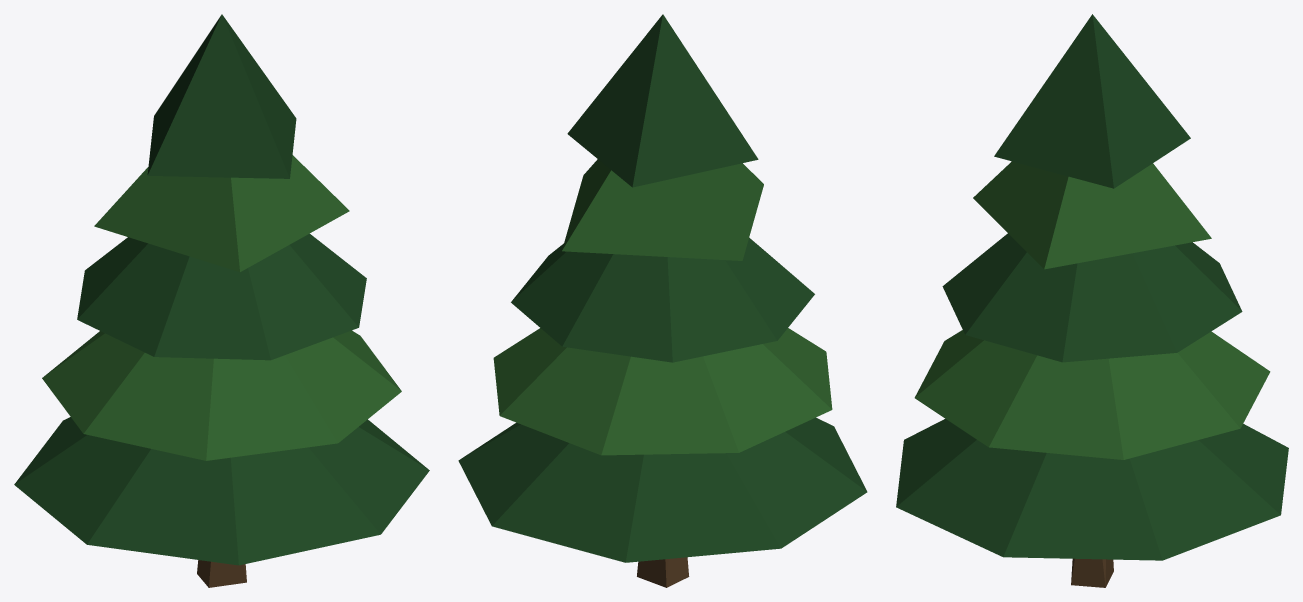
File: tree_pine_1_lod1.glb
3 renders of one model, left to right at view 1: azimuth 30°, elevation 25°; view 2: azimuth 150°, elevation 25°; view 3: azimuth 270°, elevation 25°, orthographic.
Visible parts, largest first — view 1: tree_pine_1_lod1; view 2: tree_pine_1_lod1; view 3: tree_pine_1_lod1.
Part boxes in pixels (x1,y1,x2,y2): tree_pine_1_lod1: (14, 14, 429, 587); tree_pine_1_lod1: (458, 14, 867, 587); tree_pine_1_lod1: (896, 14, 1288, 587).
Bounding box in the file's own units: 4.73 × 7.5 × 4.73.
